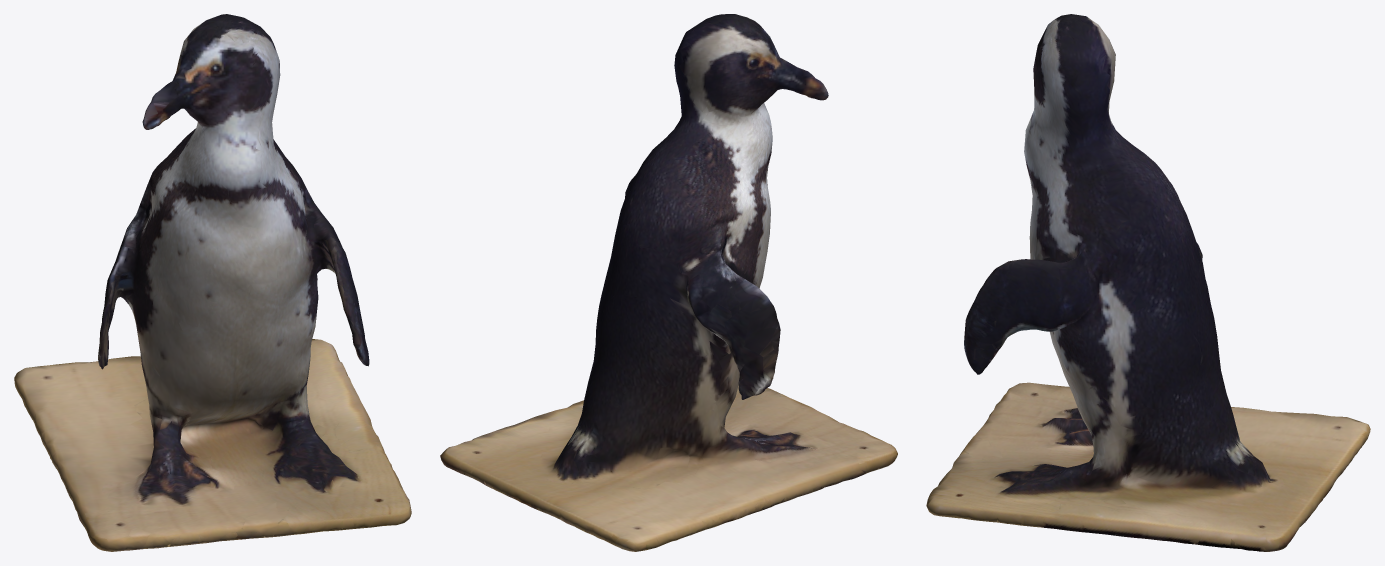
The model's file is penguin.dae.
The picture shows the model from 3 angles, left to right: view 1: azimuth 30°, elevation 25°; view 2: azimuth 150°, elevation 25°; view 3: azimuth 270°, elevation 25°; orthographic projection. The views are drawn at different scales.
Visible parts, largest first — view 1: node; view 2: node; view 3: node.
Boxes of the visible parts, x1,y1,x2,y2 form: node: (14,14,411,551); node: (440,14,897,551); node: (926,14,1370,551).
Size of the model in its own units: 0.3437 by 0.3806 by 0.4222.
1 material, 1 textured.
